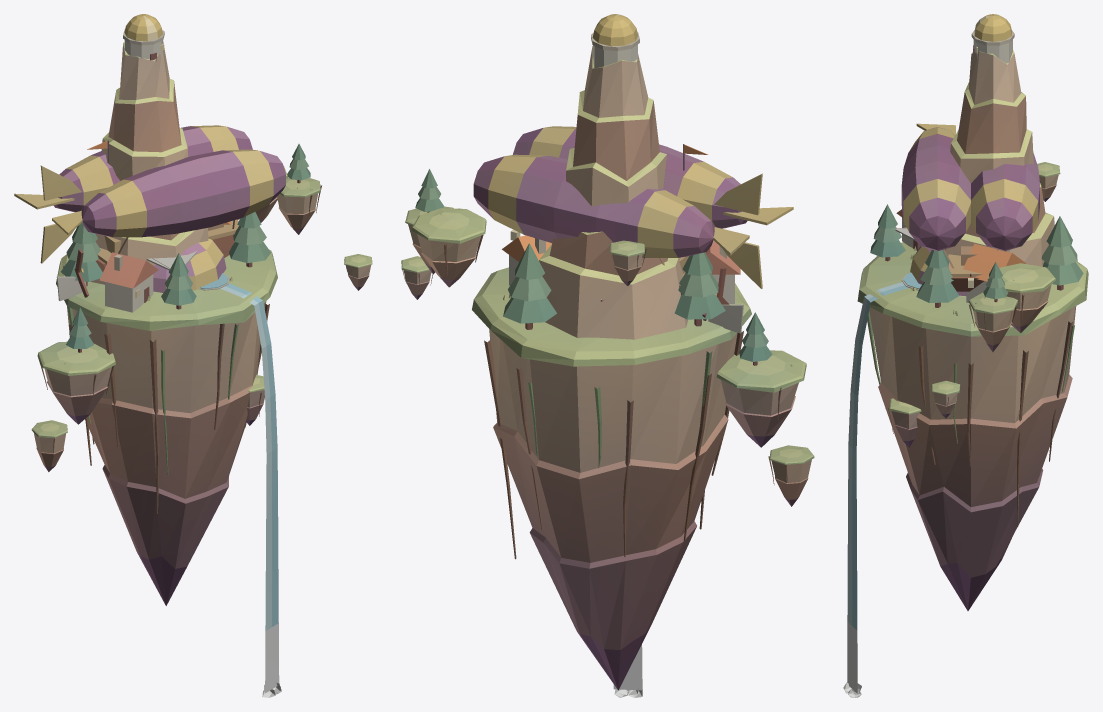
Rendered from sky_full.glb.
3 renders of one model, left to right at view 1: azimuth 30°, elevation 25°; view 2: azimuth 150°, elevation 25°; view 3: azimuth 270°, elevation 25°, orthographic. The views are drawn at different scales.
Parts seen in each view (by area): view 1: SKY_island_7, SKY_airship_2, SKY_rocks_1, SKY_balloon_3; view 2: SKY_island_7, SKY_airship_2, SKY_rocks_1; view 3: SKY_island_7, SKY_airship_2, SKY_rocks_1, SKY_balloon_3.
Part boxes in pixels (x1=…): SKY_island_7: x1=31, y1=14, x2=321, y2=697; SKY_airship_2: x1=14, y1=125, x2=285, y2=300; SKY_rocks_1: x1=37, y1=166, x2=372, y2=425; SKY_balloon_3: x1=153, y1=238, x2=226, y2=292; SKY_island_7: x1=405, y1=14, x2=814, y2=697; SKY_airship_2: x1=473, y1=126, x2=793, y2=333; SKY_rocks_1: x1=401, y1=208, x2=806, y2=447; SKY_island_7: x1=843, y1=14, x2=1088, y2=697; SKY_airship_2: x1=895, y1=123, x2=1039, y2=291; SKY_rocks_1: x1=888, y1=162, x2=1060, y2=447; SKY_balloon_3: x1=910, y1=246, x2=966, y2=296.
Size of the model in its own units: 3.23 by 5.81 by 1.99.
